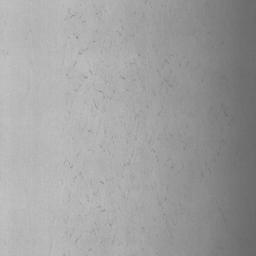Silk spot: (74, 70, 115, 112), (157, 55, 189, 90), (148, 128, 174, 168), (119, 63, 145, 91), (87, 179, 107, 212), (64, 160, 83, 185), (68, 33, 88, 55), (64, 4, 86, 23)
